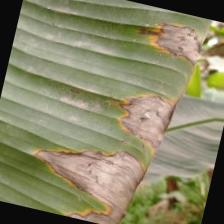cordana: (0, 0, 209, 224)
